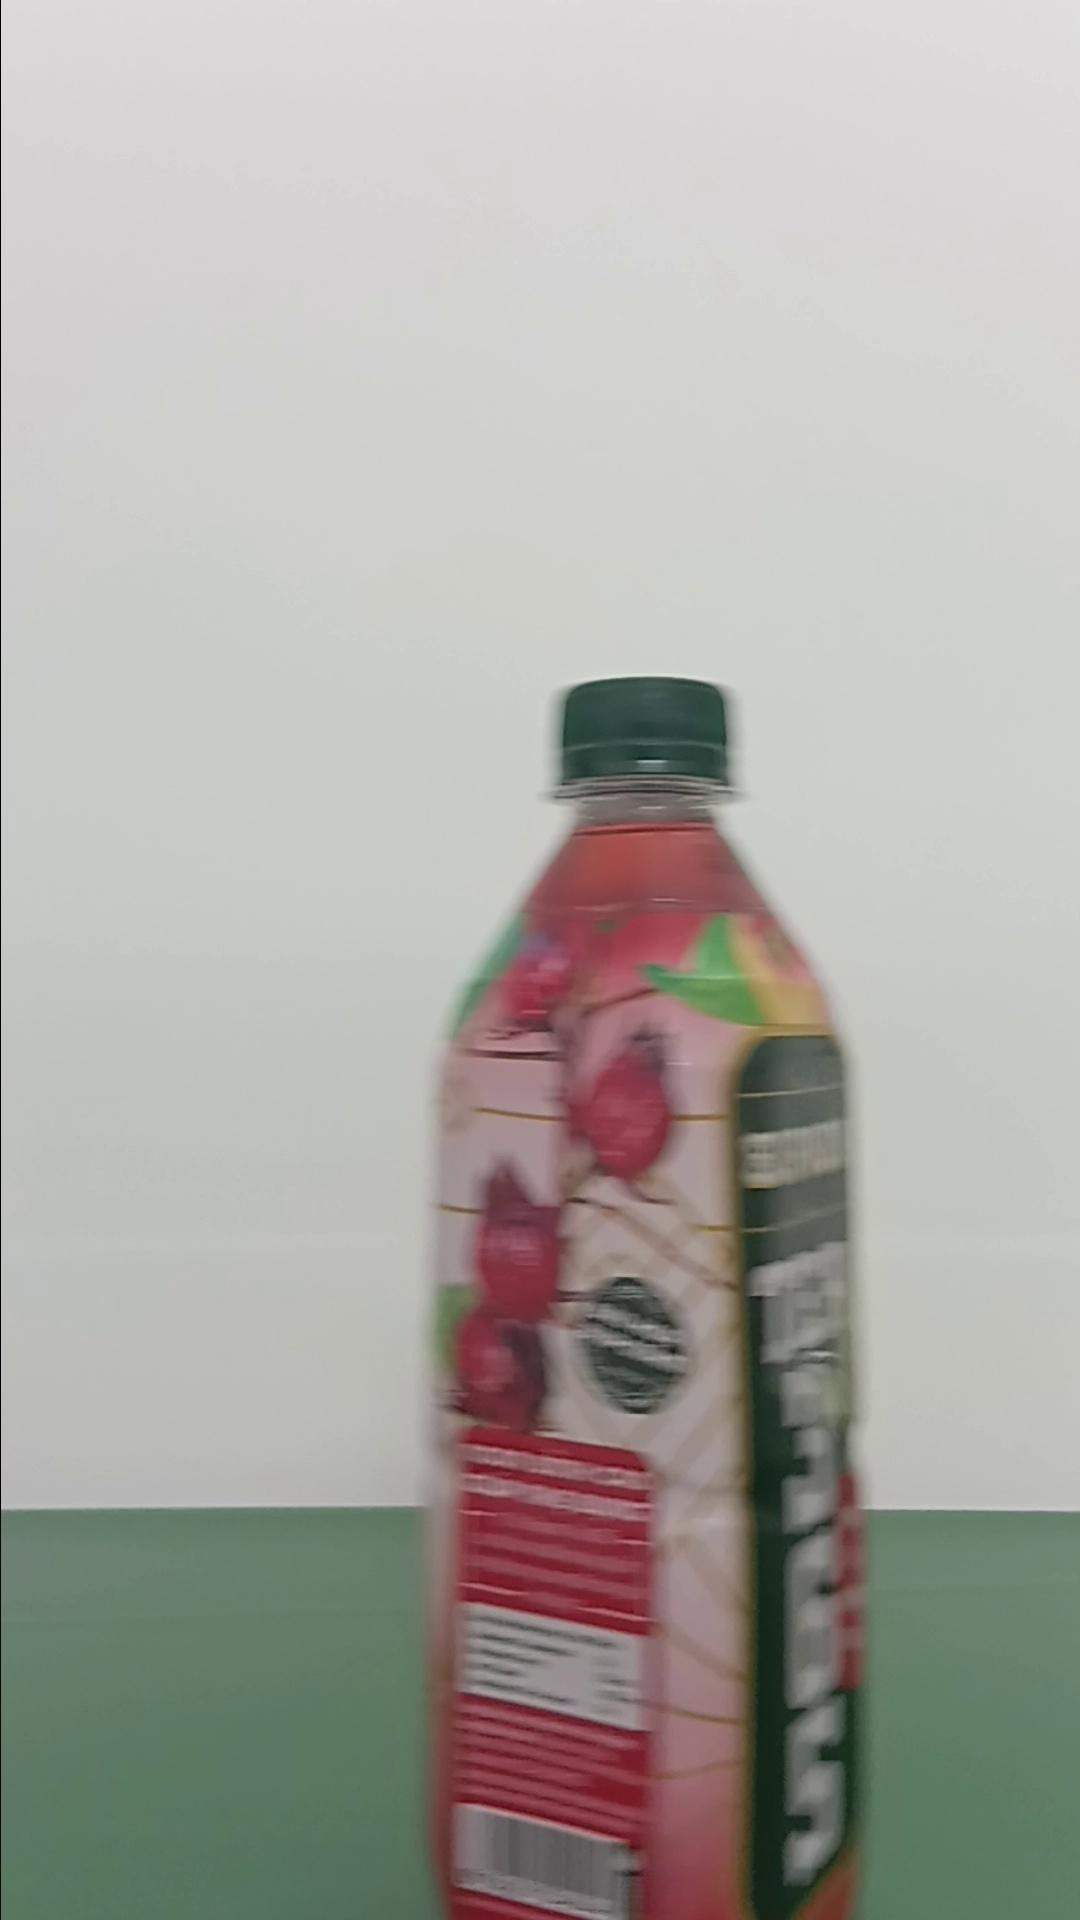khong loi: (419, 673, 873, 1915)
